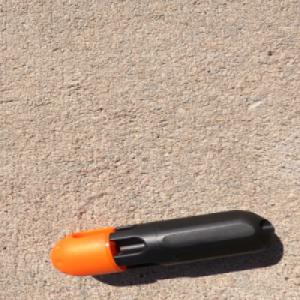PlasticPart: (49, 208, 277, 276)
